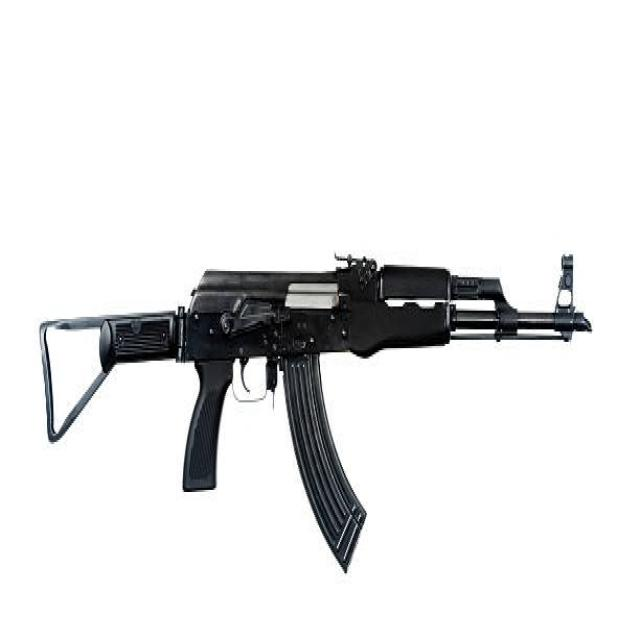rifle: (34, 246, 596, 604)
